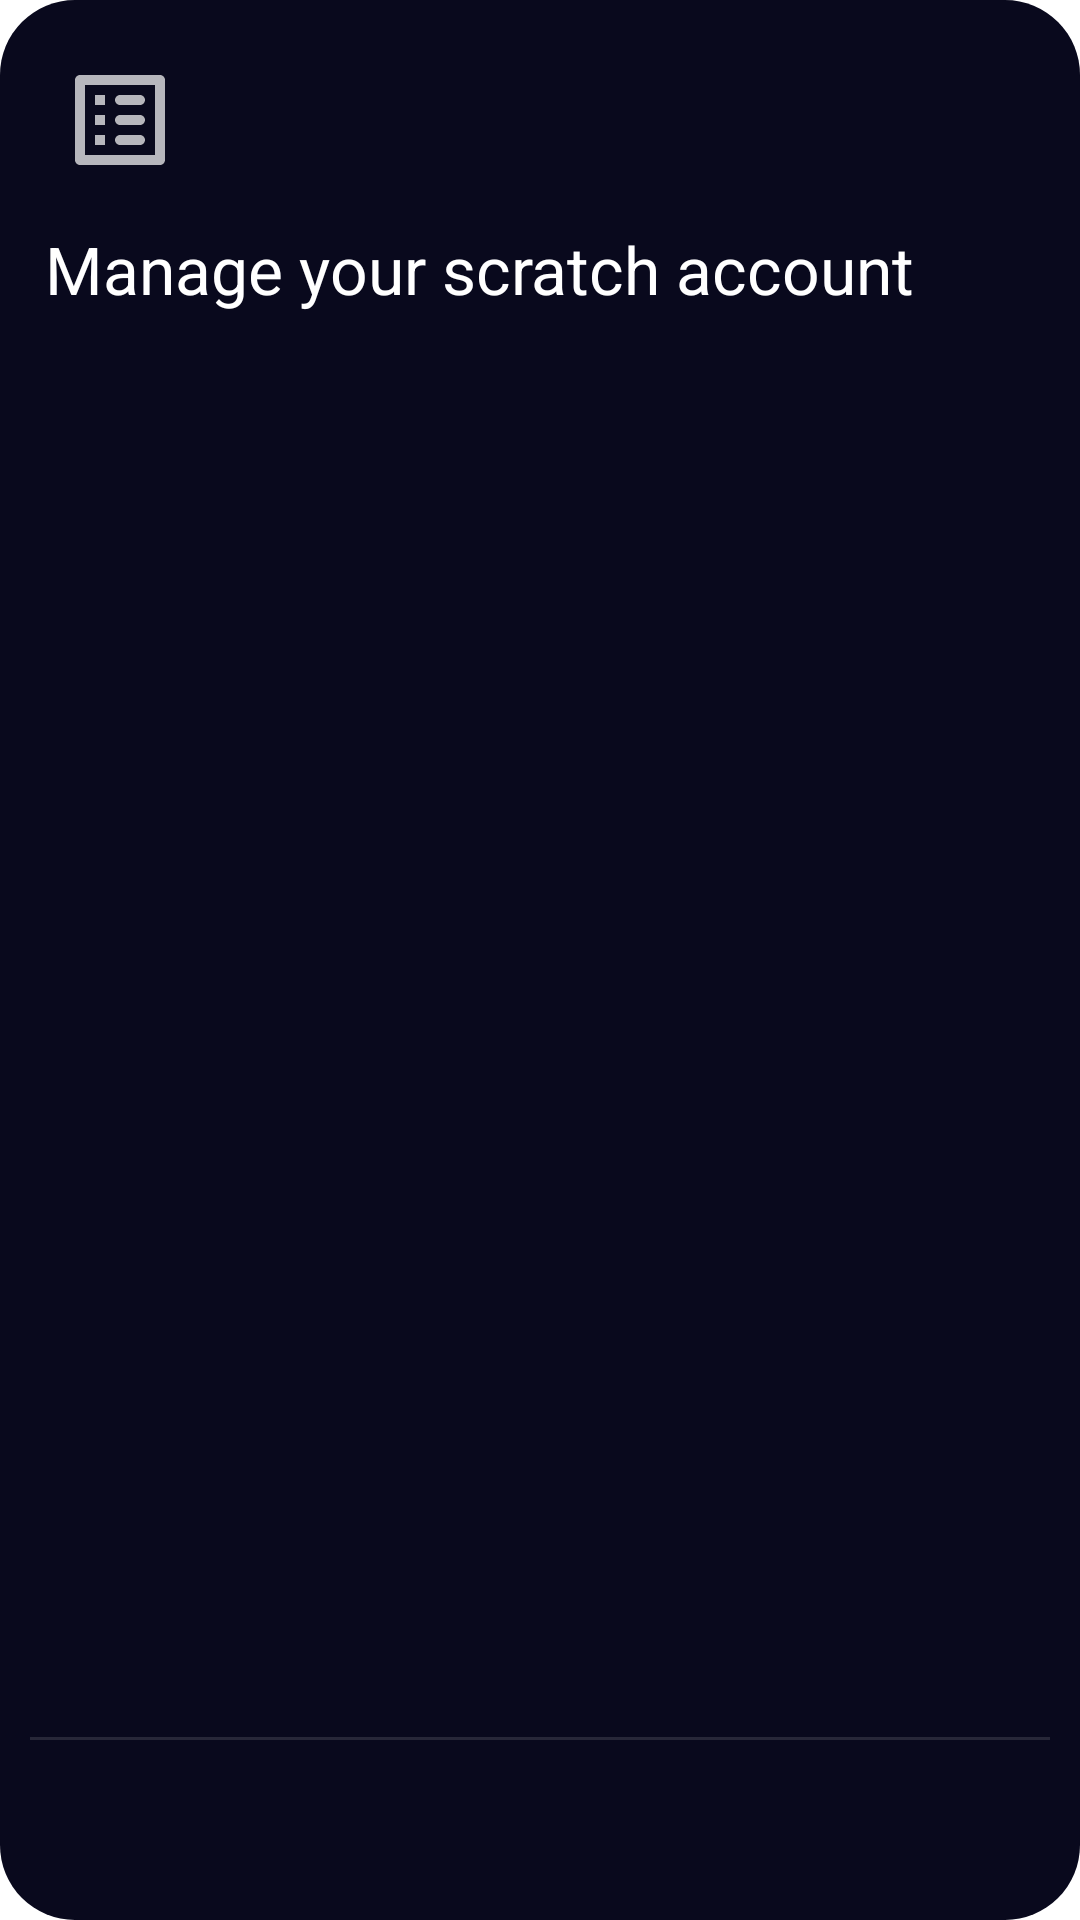

Screen size 1080px x 1920px. Icon name, then its center in pixels as [x,y]:
list: [120,120]
